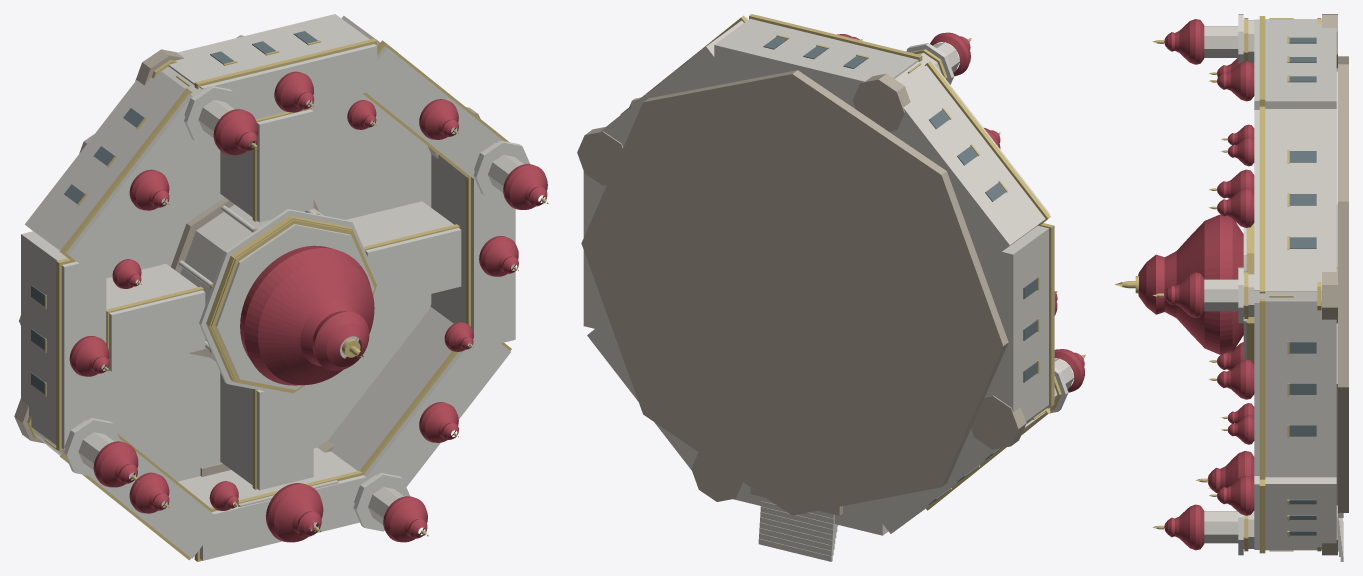
The model's file is arabian_palace_v8.glb.
3 renders of one model, left to right at view 1: azimuth 30°, elevation 25°; view 2: azimuth 150°, elevation 25°; view 3: azimuth 270°, elevation 25°, orthographic. The views are drawn at different scales.
Parts seen in each view (by area): view 1: Upper foundation trim, Great crimson central onion dome, Octagonal outer wing_2, Octagonal outer wing_6, Octagonal outer wing_3, Outer wing roof terrace_2, Outer wing roof terrace_3, Outer wing roof terrace_6, Radial wing roof_1, Radial wing roof_2, Octagonal outer wing_1, Outer wing roof terrace_1 (+50 smaller); view 2: Octagonal palace foundation, Octagonal outer wing_2, Octagonal outer wing_3, Octagonal outer wing_1, Octagonal outer wing, Octagonal outer wing_4, Main tower stone base_1, Main tower stone base_2, Octagonal outer wing_7, Main tower stone base, Octagonal outer wing_6, Octagonal outer wing_5 (+6 smaller); view 3: Octagonal outer wing, Octagonal outer wing_7, Great crimson central onion dome, Octagonal outer wing_1, Octagonal palace foundation, Octagonal outer wing_6, Outer wing gold cornice, Outer wing gold cornice_7, Main tower crimson onion dome, Main tower crimson onion dome_3, Main tower crimson onion dome_1, Main tower upper turret (+34 smaller).
Boxes of the visible parts, x1,y1,x2,y2 form: Upper foundation trim: (106, 93, 431, 481); Great crimson central onion dome: (240, 245, 374, 385); Octagonal outer wing_2: (25, 70, 185, 250); Octagonal outer wing_6: (328, 306, 453, 470); Octagonal outer wing_3: (21, 231, 67, 444); Outer wing roof terrace_2: (66, 94, 203, 278); Outer wing roof terrace_3: (61, 258, 106, 449); Outer wing roof terrace_6: (363, 329, 510, 486); Radial wing roof_1: (256, 109, 313, 222); Radial wing roof_2: (109, 290, 205, 371); Octagonal outer wing_1: (168, 14, 369, 84); Outer wing roof terrace_1: (200, 44, 377, 119); Octagonal palace foundation: (581, 70, 1008, 515); Octagonal outer wing_2: (889, 65, 1045, 267); Octagonal outer wing_3: (973, 225, 1048, 421); Octagonal outer wing_1: (714, 18, 918, 109); Octagonal outer wing: (600, 20, 743, 147); Octagonal outer wing_4: (866, 412, 1045, 533); Main tower stone base_1: (852, 73, 910, 131); Main tower stone base_2: (971, 395, 1026, 449); Octagonal outer wing_7: (583, 171, 613, 333); Main tower stone base: (577, 127, 622, 185); Octagonal outer wing_6: (587, 326, 698, 470); Octagonal outer wing_5: (733, 482, 888, 535); Octagonal outer wing: (1265, 109, 1336, 291); Octagonal outer wing_7: (1265, 300, 1336, 477); Great crimson central onion dome: (1138, 214, 1243, 354); Octagonal outer wing_1: (1265, 19, 1336, 108); Octagonal palace foundation: (1338, 56, 1348, 512); Octagonal outer wing_6: (1265, 477, 1336, 550); Outer wing gold cornice: (1259, 106, 1265, 293); Outer wing gold cornice_7: (1259, 299, 1265, 479); Main tower crimson onion dome: (1164, 272, 1204, 317); Main tower crimson onion dome_3: (1164, 504, 1204, 550); Main tower crimson onion dome_1: (1164, 19, 1204, 64); Main tower upper turret: (1204, 279, 1238, 311).
Bounding box in the file's own units: 188 × 200 × 86.97.
